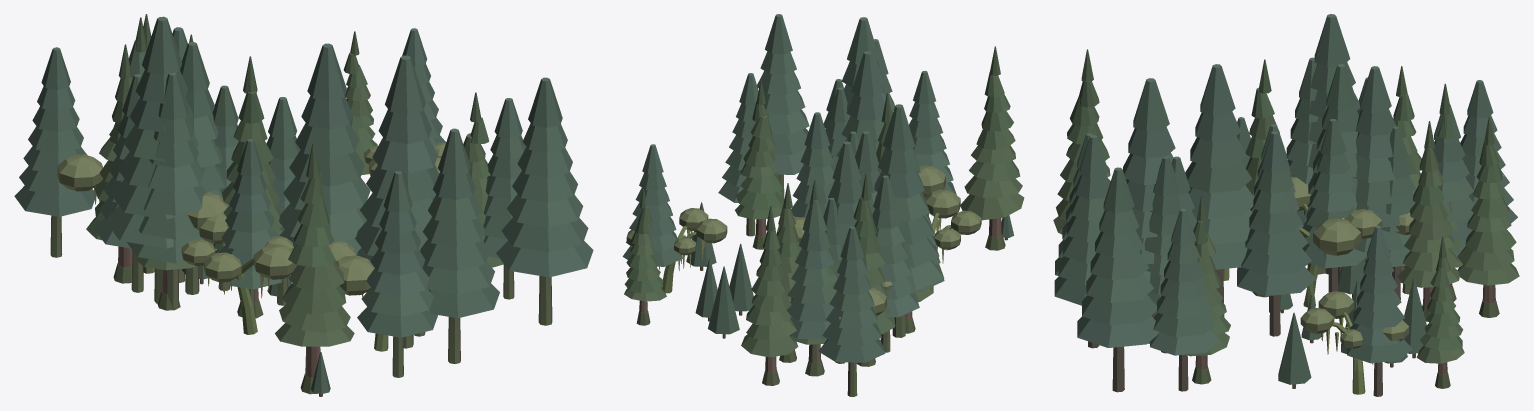
Rendered from Mist_Forest_3_0.fbx.
The picture shows the model from 3 angles, left to right: view 1: azimuth 30°, elevation 25°; view 2: azimuth 150°, elevation 25°; view 3: azimuth 270°, elevation 25°; orthographic projection. The views are drawn at different scales.
Parts seen in each view (by area): view 1: Mist_Forest_3_0; view 2: Mist_Forest_3_0; view 3: Mist_Forest_3_0.
Part boxes in pixels (x1,y1,x2,y2): Mist_Forest_3_0: (14,14,593,396); Mist_Forest_3_0: (622,14,1024,396); Mist_Forest_3_0: (1053,14,1519,396).
Size of the model in its own units: 32.24 by 24.49 by 38.85.
